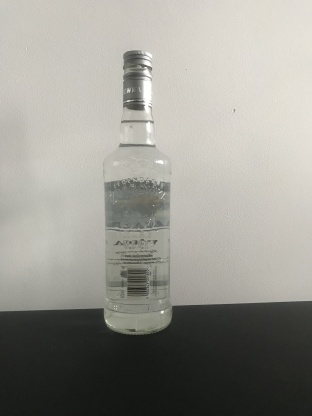nakretka: (121, 48, 153, 110)
